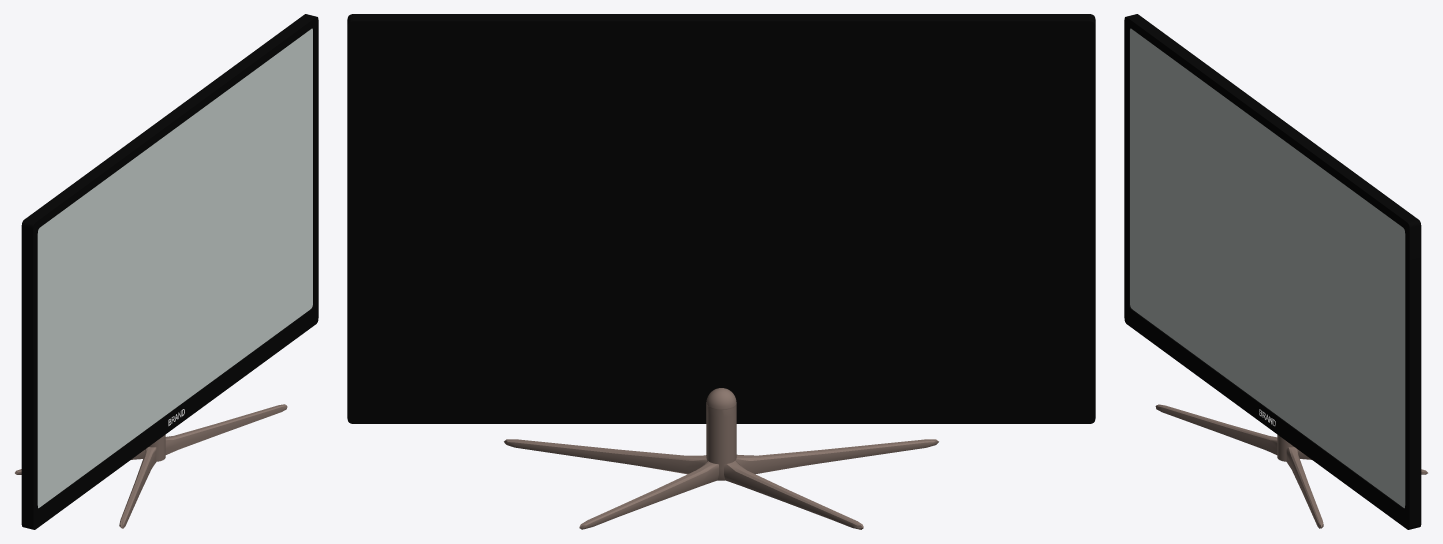
The picture shows the model from 3 angles, left to right: view 1: azimuth 30°, elevation 25°; view 2: azimuth 150°, elevation 25°; view 3: azimuth 270°, elevation 25°; orthographic projection. The views are drawn at different scales.
Parts seen in each view (by area): view 1: TV; view 2: TV; view 3: TV.
Part boxes in pixels (box(x1,y1,x2,y2)): TV: box(15, 14, 318, 529); TV: box(347, 14, 1095, 529); TV: box(1124, 14, 1427, 529).
Size of the model in its own units: 89.94 by 67.93 by 54.61.
